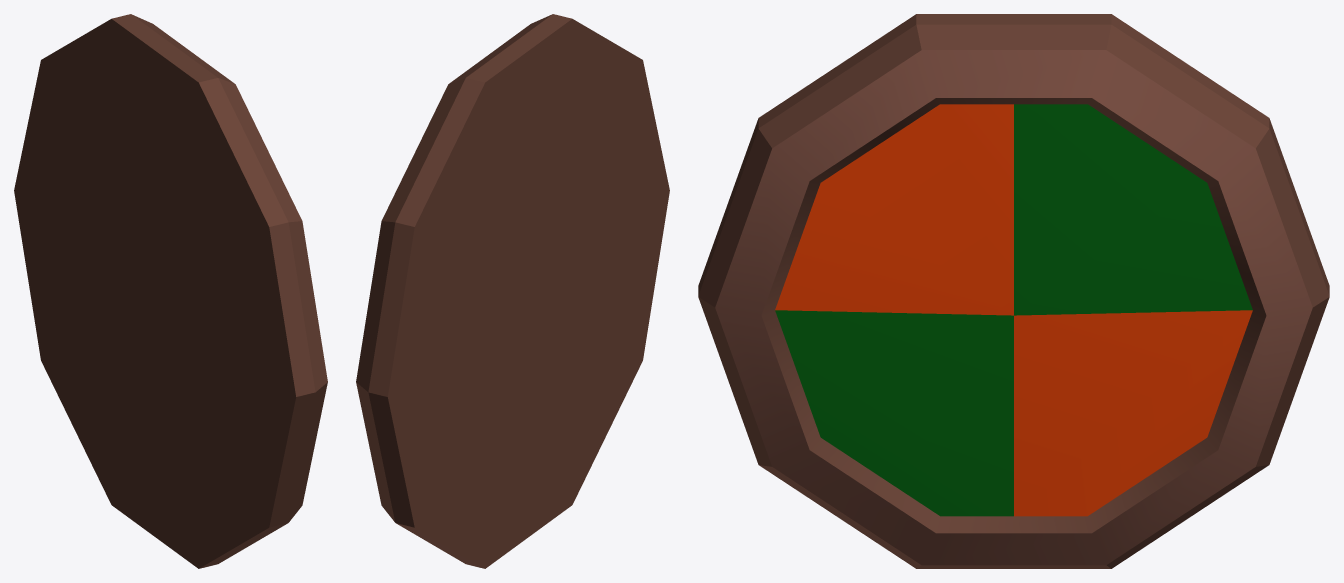
Rendered from Shield.fbx.
3 views of the same model, side by side, from view 1: azimuth 30°, elevation 25°; view 2: azimuth 150°, elevation 25°; view 3: azimuth 270°, elevation 25° (orthographic). The views are drawn at different scales.
Visible parts, largest first — view 1: Shield; view 2: Shield; view 3: Shield.
Part boxes in pixels (left/top/right/bottom): Shield: left=14, top=14, right=327, bottom=568; Shield: left=356, top=14, right=669, bottom=568; Shield: left=698, top=14, right=1329, bottom=568.
Size of the model in its own units: 4.41 by 38.04 by 40.
